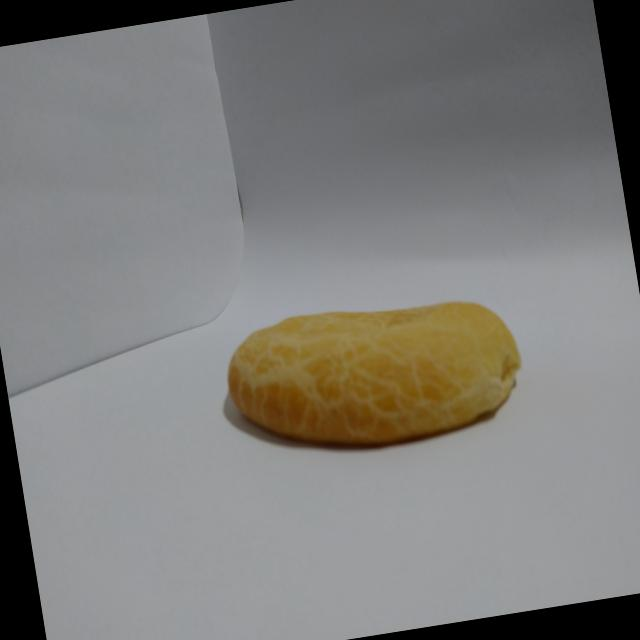Chipa: (208, 266, 540, 482)
